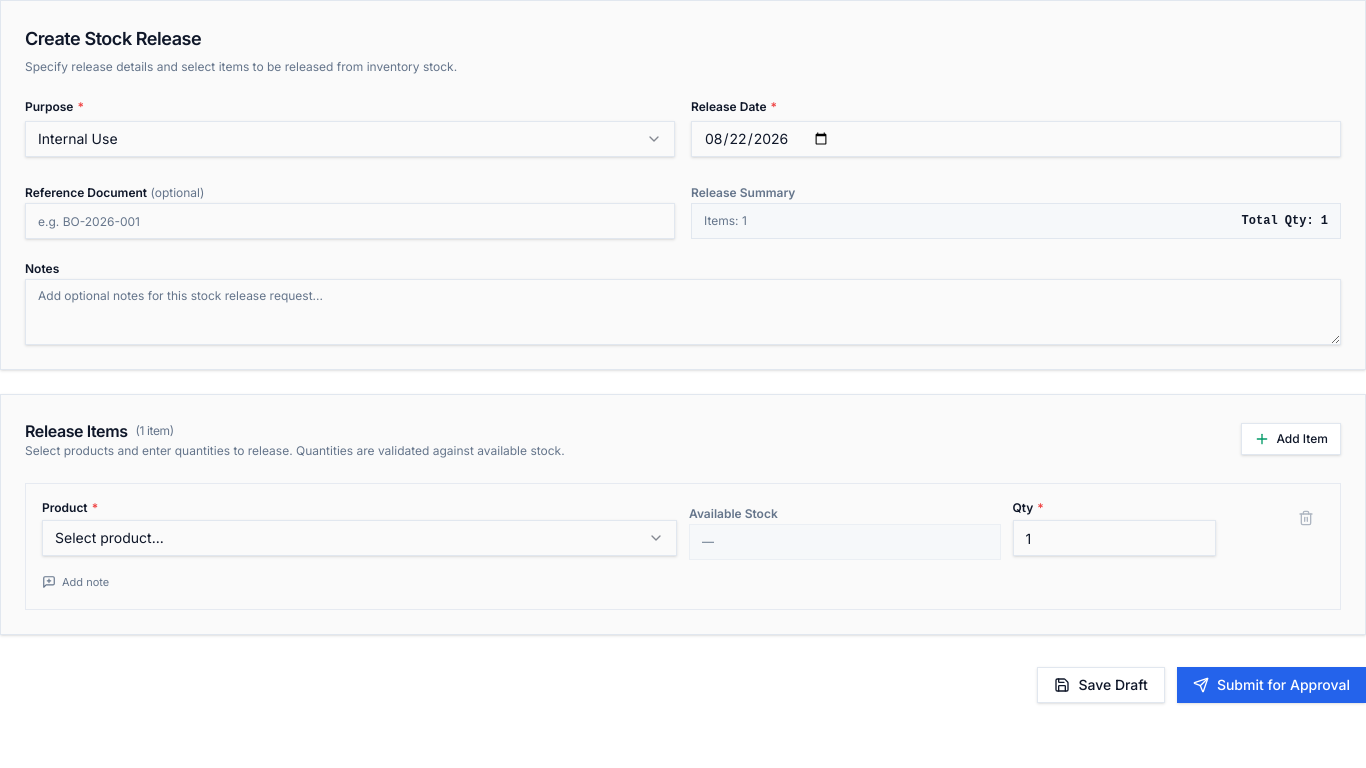
Test: StockReleaseForm › allows adding and removing dynamic item rows
This screenshot has width=1366, height=768.
Step 1. Click the button "Add Item" → (1291, 439), box [1241,423,1341,455]
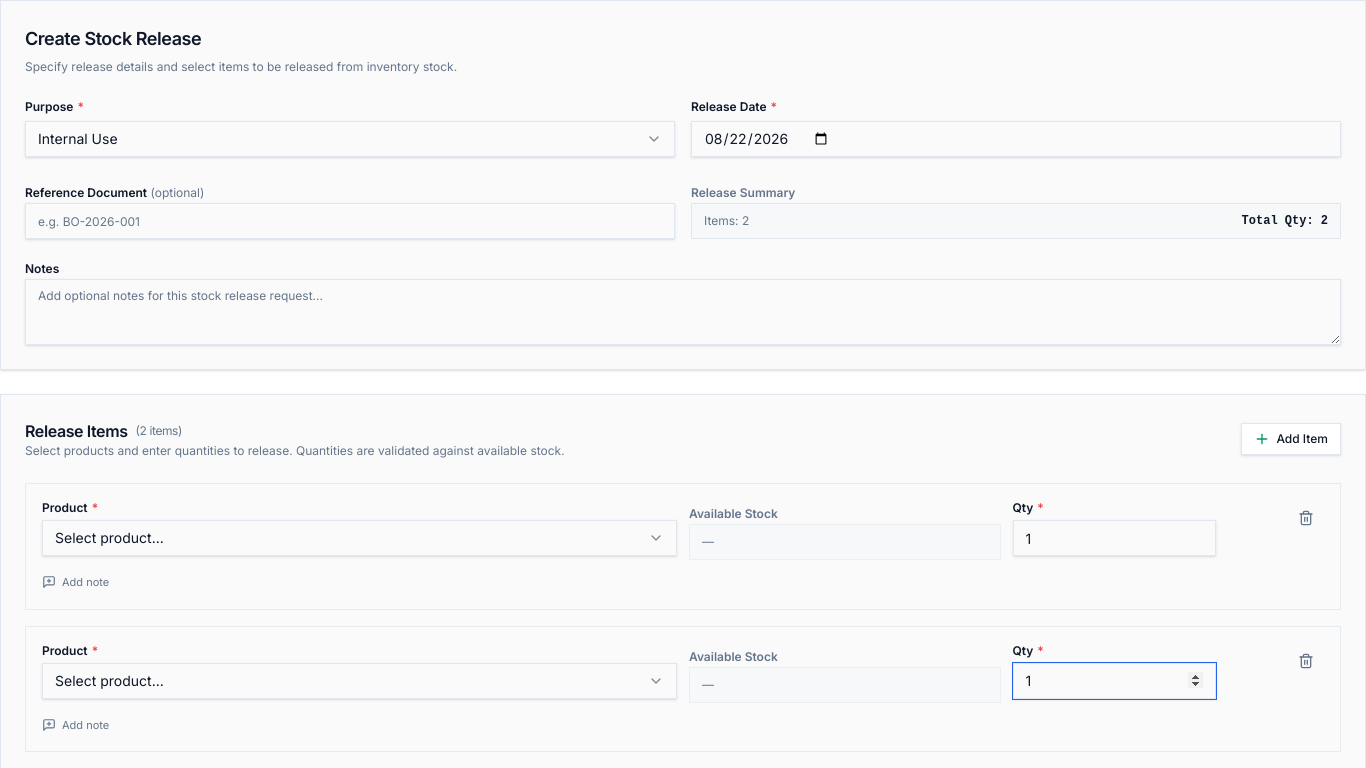
expect the text "(2 items)" is shown: met, box [136,423,182,439]
